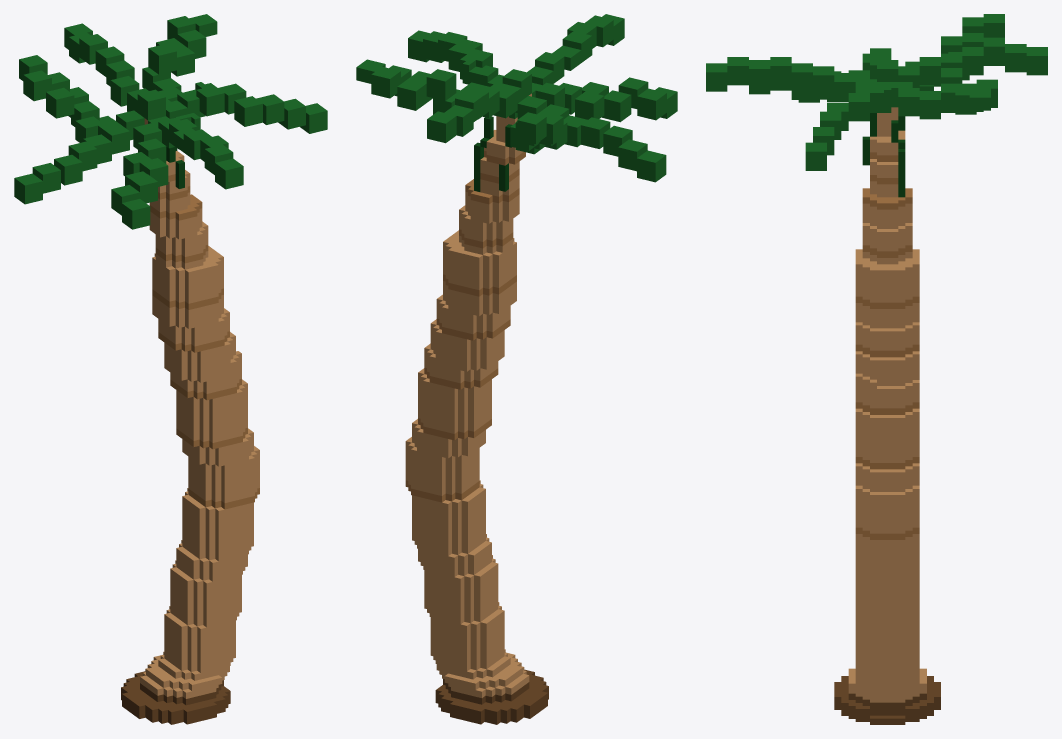
File: 2_3 coco.obj
3 views of the same model, side by side, from view 1: azimuth 30°, elevation 25°; view 2: azimuth 150°, elevation 25°; view 3: azimuth 270°, elevation 25° (orthographic). The views are drawn at different scales.
Bounding box in the file's own units: 4.5 × 10 × 4.8.
1 material, 1 textured.
